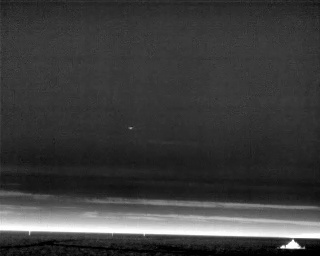BIRD: (127, 124, 134, 132)
